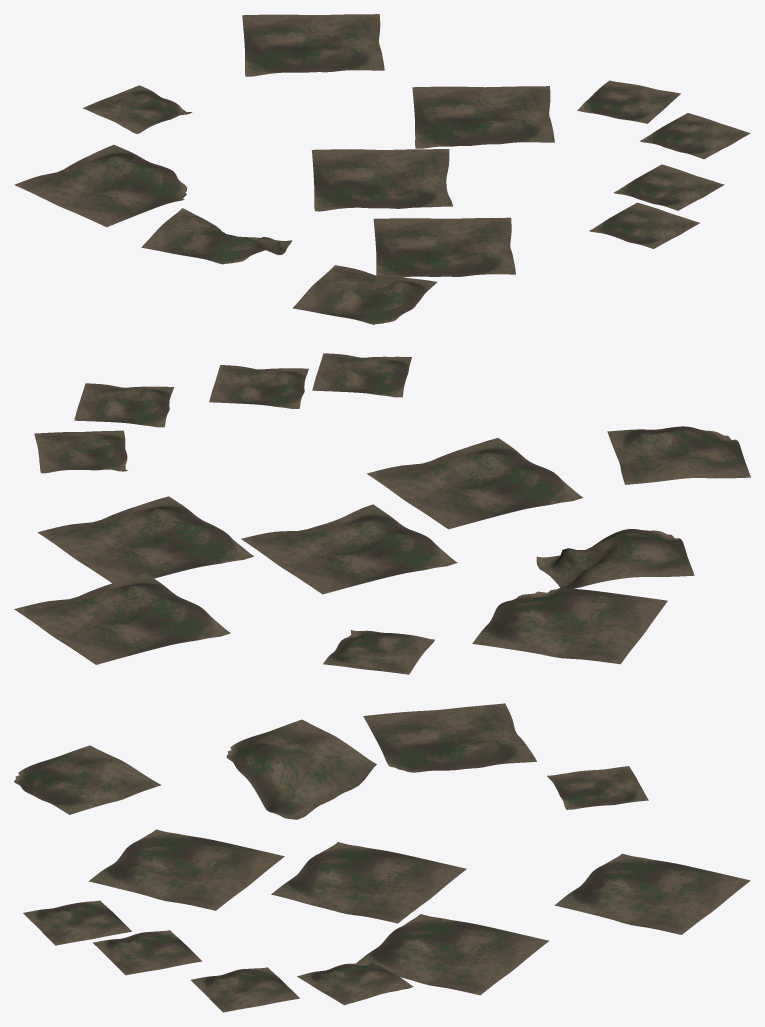
File: atrium_Dirt.fbx
3 views of the same model, one above another, from view 1: azimuth 30°, elevation 25°; view 2: azimuth 150°, elevation 25°; view 3: azimuth 270°, elevation 25° (orthographic). The views are drawn at different scales.
Visible parts, largest first — view 1: Dirt.006, Dirt.007, Dirt.005, Dirt.008, Dirt.011, Dirt.010, Dirt, Dirt.002, Dirt.004, Dirt.001, Dirt.003, Dirt.009; view 2: Dirt.008, Dirt.005, Dirt.006, Dirt.011, Dirt.007, Dirt.010, Dirt, Dirt.003, Dirt.001, Dirt.004, Dirt.002, Dirt.009; view 3: Dirt.007, Dirt.008, Dirt.005, Dirt, Dirt.006, Dirt.011, Dirt.010, Dirt.009, Dirt.004, Dirt.001, Dirt.002, Dirt.003.
Boxes of the visible parts, left/top/right/bottom form: Dirt.006: left=412, top=86, right=554, bottom=148; Dirt.007: left=311, top=149, right=452, bottom=211; Dirt.005: left=373, top=217, right=515, bottom=277; Dirt.008: left=242, top=14, right=384, bottom=76; Dirt.011: left=14, top=145, right=187, bottom=227; Dirt.010: left=292, top=265, right=437, bottom=324; Dirt: left=141, top=208, right=292, bottom=264; Dirt.002: left=589, top=202, right=699, bottom=248; Dirt.004: left=614, top=164, right=724, bottom=210; Dirt.001: left=640, top=113, right=750, bottom=159; Dirt.003: left=577, top=80, right=680, bottom=123; Dirt.009: left=83, top=85, right=192, bottom=133; Dirt.008: left=14, top=573, right=230, bottom=664; Dirt.005: left=366, top=438, right=583, bottom=529; Dirt.006: left=37, top=496, right=253, bottom=583; Dirt.011: left=472, top=588, right=667, bottom=664; Dirt.007: left=241, top=504, right=457, bottom=594; Dirt.010: left=607, top=426, right=750, bottom=484; Dirt: left=536, top=529, right=694, bottom=588; Dirt.003: left=34, top=430, right=127, bottom=473; Dirt.001: left=74, top=383, right=173, bottom=427; Dirt.004: left=209, top=365, right=308, bottom=408; Dirt.002: left=312, top=353, right=411, bottom=397; Dirt.009: left=323, top=630, right=434, bottom=674; Dirt.007: left=271, top=842, right=466, bottom=923; Dirt.008: left=554, top=853, right=750, bottom=934; Dirt.005: left=88, top=829, right=284, bottom=910; Dirt: left=226, top=719, right=376, bottom=819; Dirt.006: left=356, top=914, right=548, bottom=995; Dirt.011: left=363, top=703, right=536, bottom=772; Dirt.010: left=14, top=745, right=161, bottom=814; Dirt.009: left=547, top=766, right=648, bottom=809; Dirt.004: left=93, top=930, right=201, bottom=975; Dirt.001: left=191, top=967, right=299, bottom=1012; Dirt.002: left=23, top=900, right=131, bottom=945; Dirt.003: left=297, top=959, right=413, bottom=1005.
Bounding box in the file's own units: 3887 × 231 × 3890.
1 material, 1 textured.
